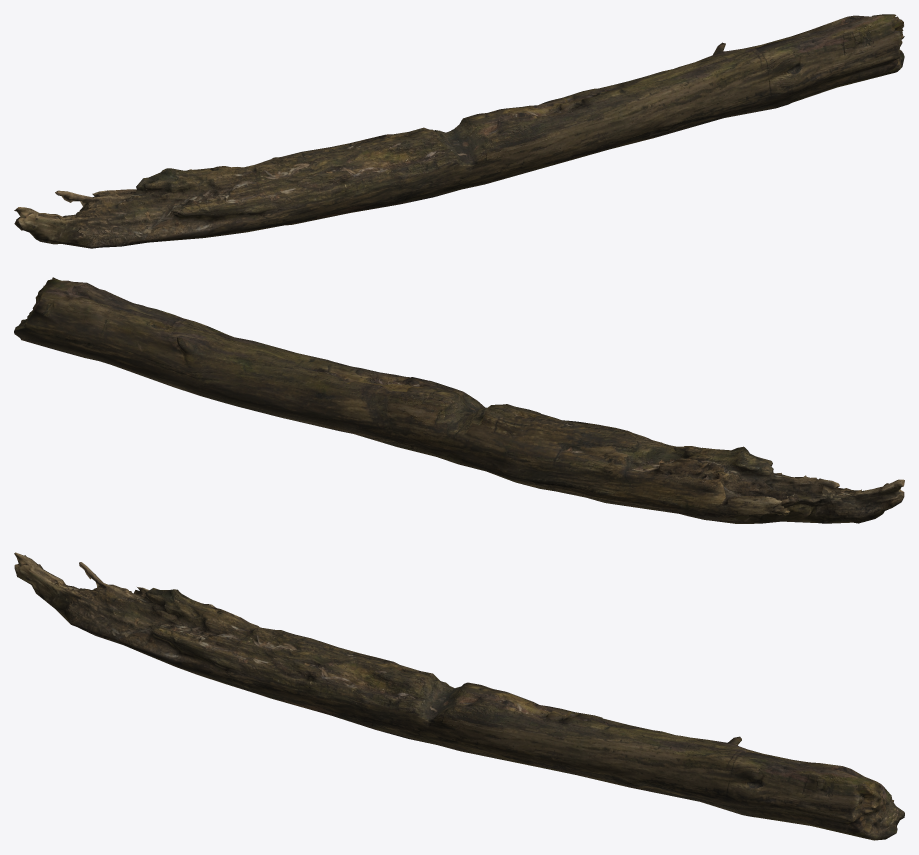
The model's file is dead_tree_trunk.glb.
3 renders of one model, top to bottom at view 1: azimuth 30°, elevation 25°; view 2: azimuth 150°, elevation 25°; view 3: azimuth 330°, elevation 25°, orthographic.
Visible parts, largest first — view 1: dead_tree_trunk; view 2: dead_tree_trunk; view 3: dead_tree_trunk.
Boxes of the visible parts, <box> form: dead_tree_trunk: <box>14,14,904,248</box>; dead_tree_trunk: <box>14,277,904,523</box>; dead_tree_trunk: <box>14,552,904,840</box>.
Bounding box in the file's own units: 3.05 × 0.2904 × 0.2773.
Materials: 1 (1 with a texture image).
